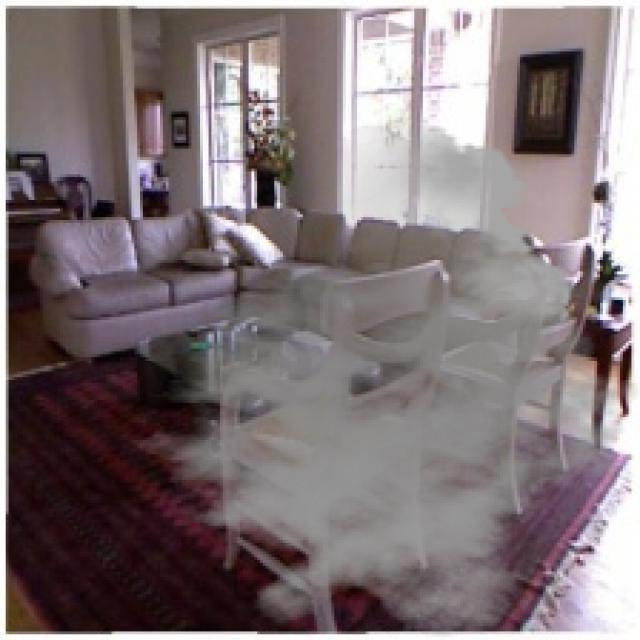Smoke: (108, 117, 638, 637)
